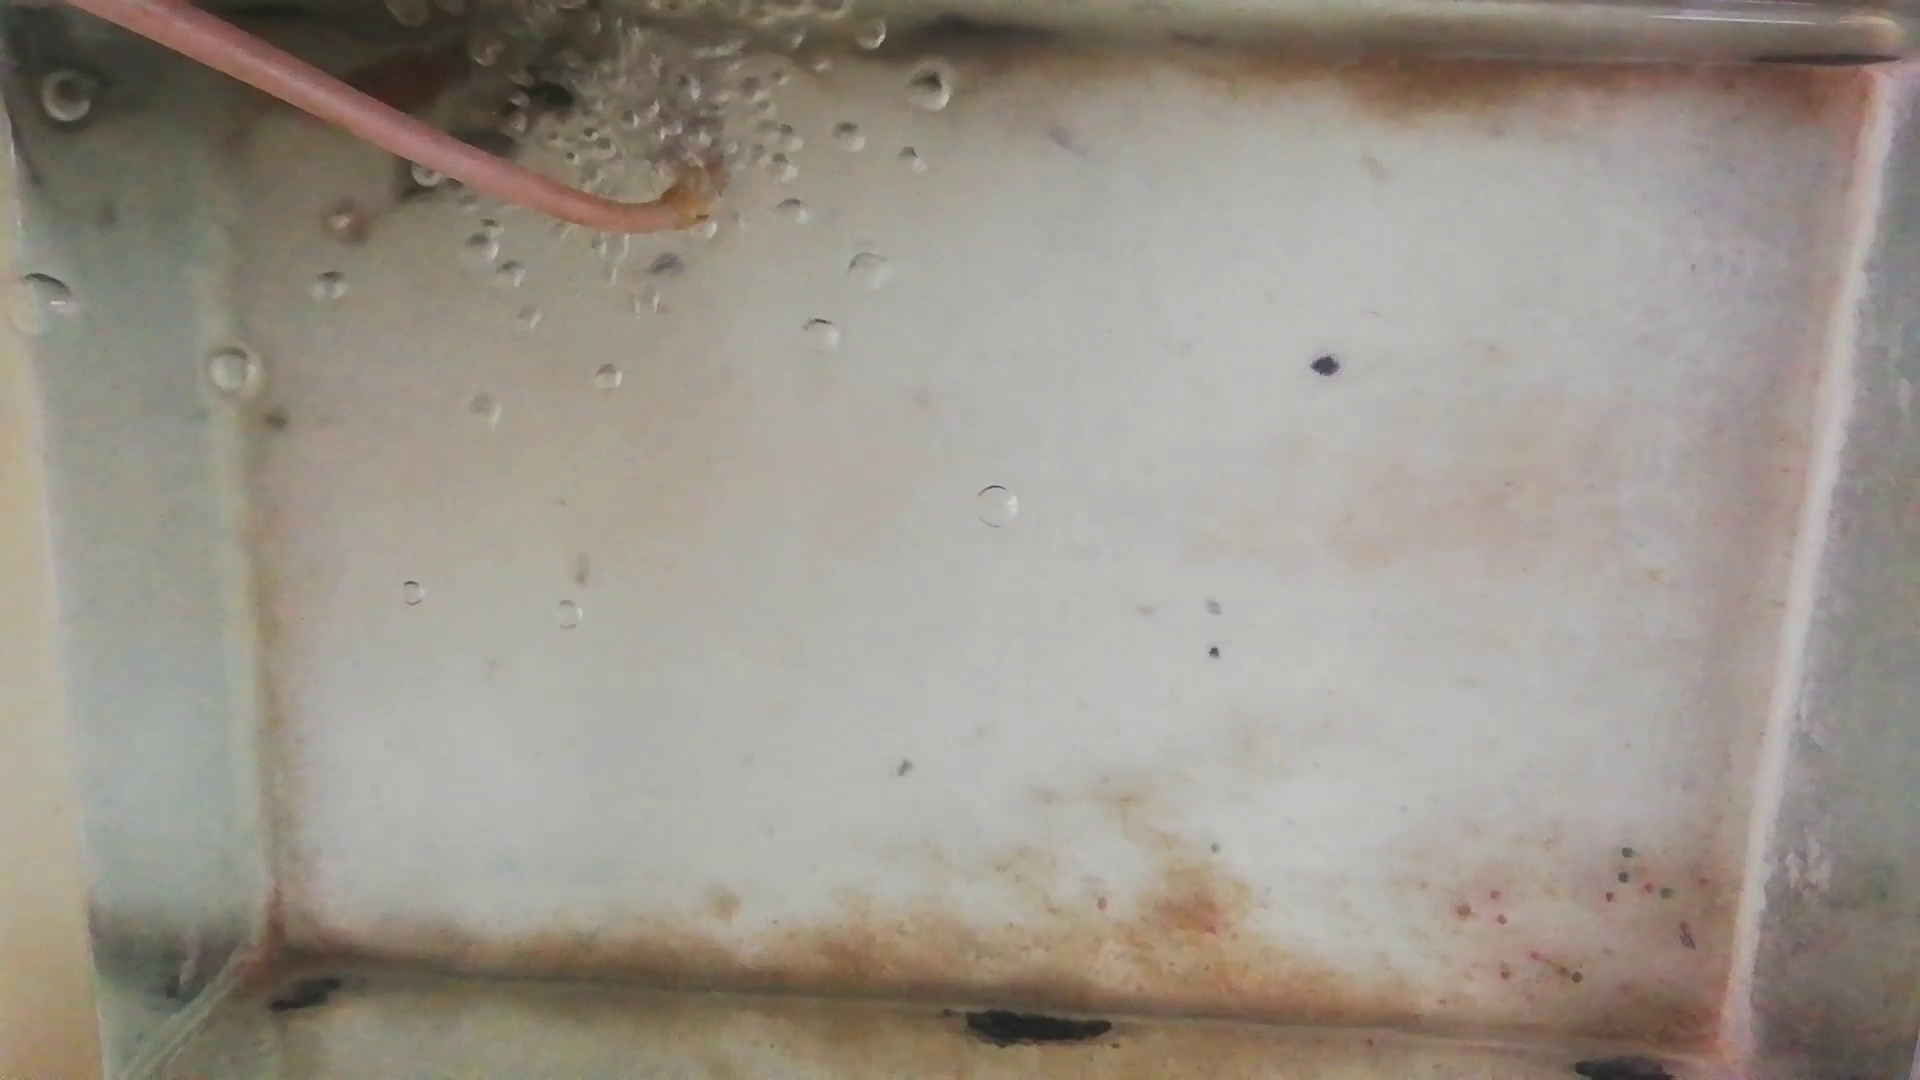fish: (455, 41, 599, 148), (342, 46, 487, 99)
